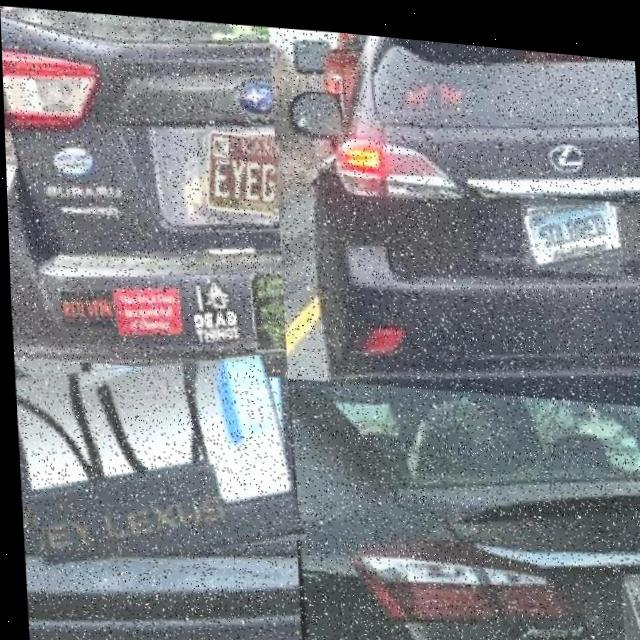LicensePlate: (10, 339, 296, 573), (200, 127, 279, 216), (520, 189, 620, 258), (617, 565, 640, 631)
